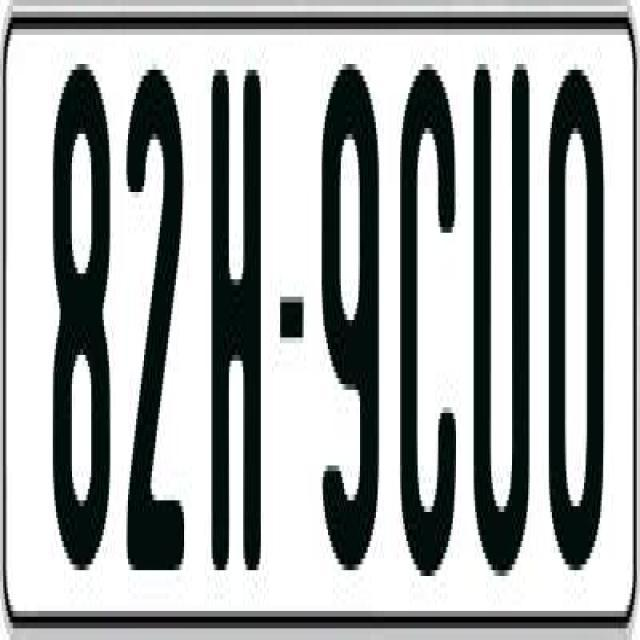0: (548, 64, 612, 576)
2: (126, 64, 188, 570)
8: (50, 58, 110, 599)
9: (320, 52, 387, 582)
C: (395, 64, 451, 594)
H: (210, 52, 260, 570)
U: (471, 52, 526, 582)
